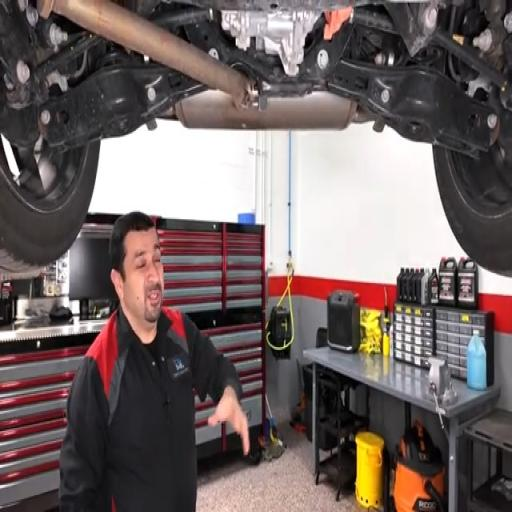exhaust: (38, 0, 251, 108), (169, 92, 357, 129)
tire: (0, 141, 100, 274), (433, 147, 511, 275)
wheel: (0, 138, 99, 274)
